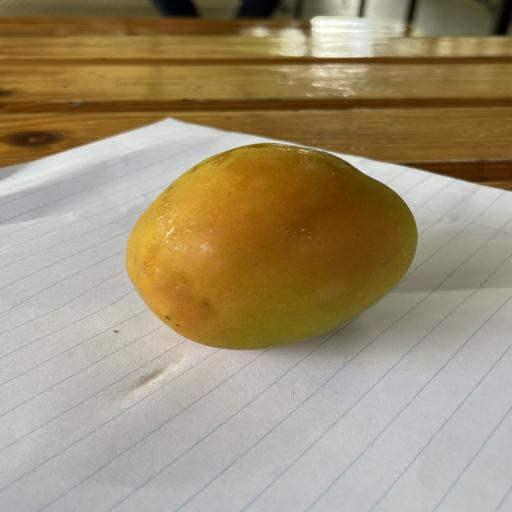unripe: (126, 143, 417, 349)
